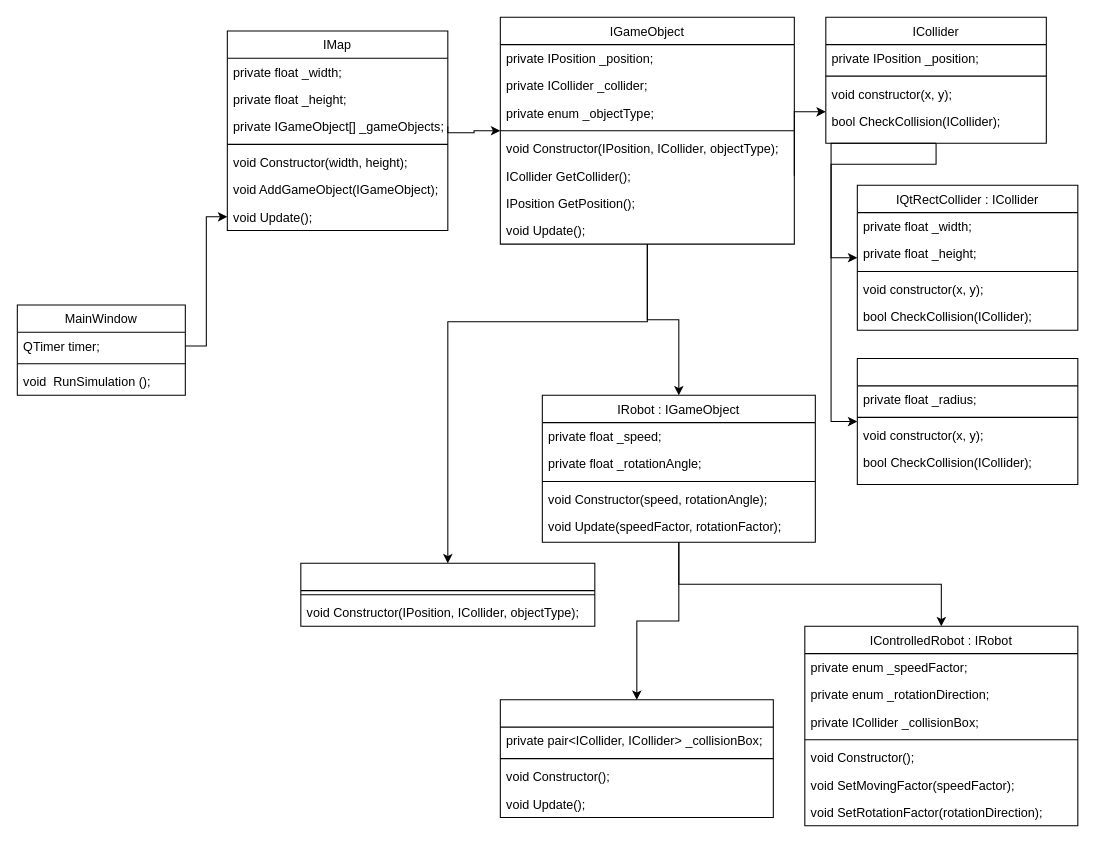
The diagram is 1095 pixels wide and 843 high, and some of its shapes have lost their labels. The box of each missing label's shape, as (x1, y1, x2, y2) in pixels:
IAutoRobot : IRobot: (499, 699, 773, 817)
IObstacle : IGameObject: (300, 562, 595, 626)
IQt CircleCollider : ICollider: (856, 358, 1078, 485)
